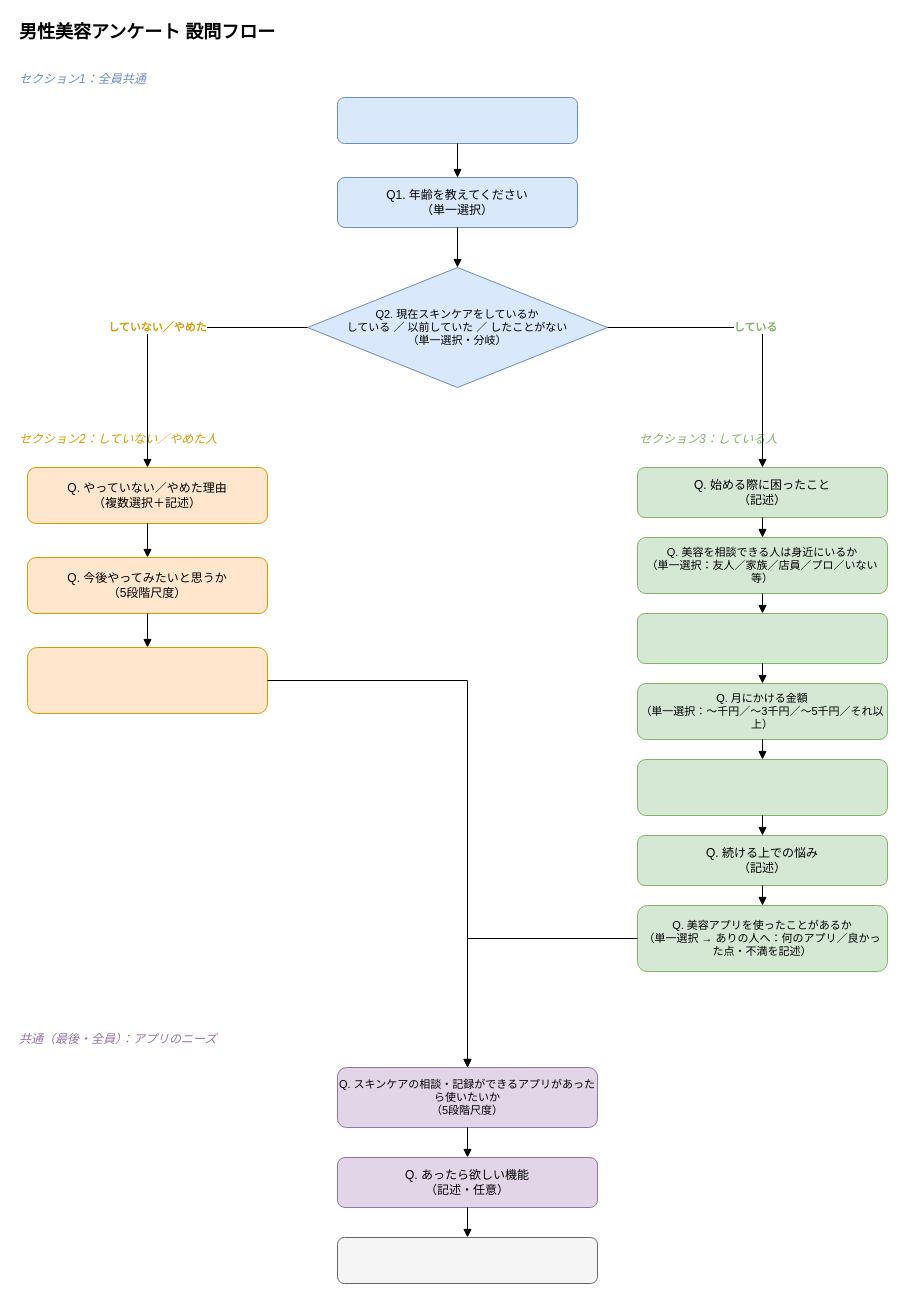
The diagram is 905 pixels wide and 1301 high, and some of its shapes have lost their labels. Here are the shapes that lost their labels. From the top down, the box of each, then its label:
(336, 96, 578, 144): アンケート開始
(636, 612, 888, 664): Q. 友人と美容の話をする頻度 （単一選択）
(26, 646, 268, 714): Q. 始めるきっかけになりそうなこと （複数選択：肌悩み／好きな人／安さ／何を買うか分かる 等）
(636, 758, 888, 816): Q. 情報収集の手段 （複数選択：SNS／動画／友人／店員／アプリ／検索）
(336, 1236, 598, 1284): 回答終了・ご協力ありがとうございました
